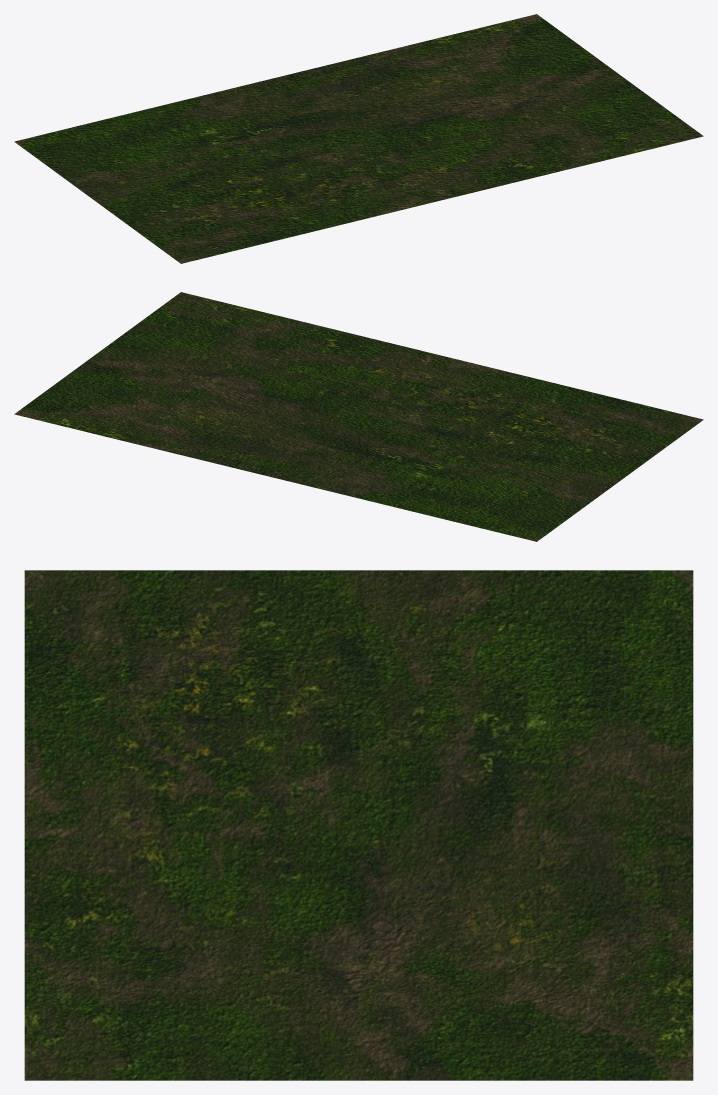
File: Level1.fbx
The picture shows the model from 3 angles, top to bottom: view 1: azimuth 30°, elevation 25°; view 2: azimuth 150°, elevation 25°; view 3: azimuth 270°, elevation 25°; orthographic projection. The views are drawn at different scales.
Parts seen in each view (by area): view 1: Plane001; view 2: Plane001; view 3: Plane001.
Part boxes in pixels (x1=…): Plane001: x1=14, y1=14, x2=703, y2=263; Plane001: x1=14, y1=292, x2=703, y2=541; Plane001: x1=24, y1=570, x2=693, y2=1080.
Size of the model in its own units: 33.83 by 1.15e-15 by 18.72.
1 material, 1 textured.
